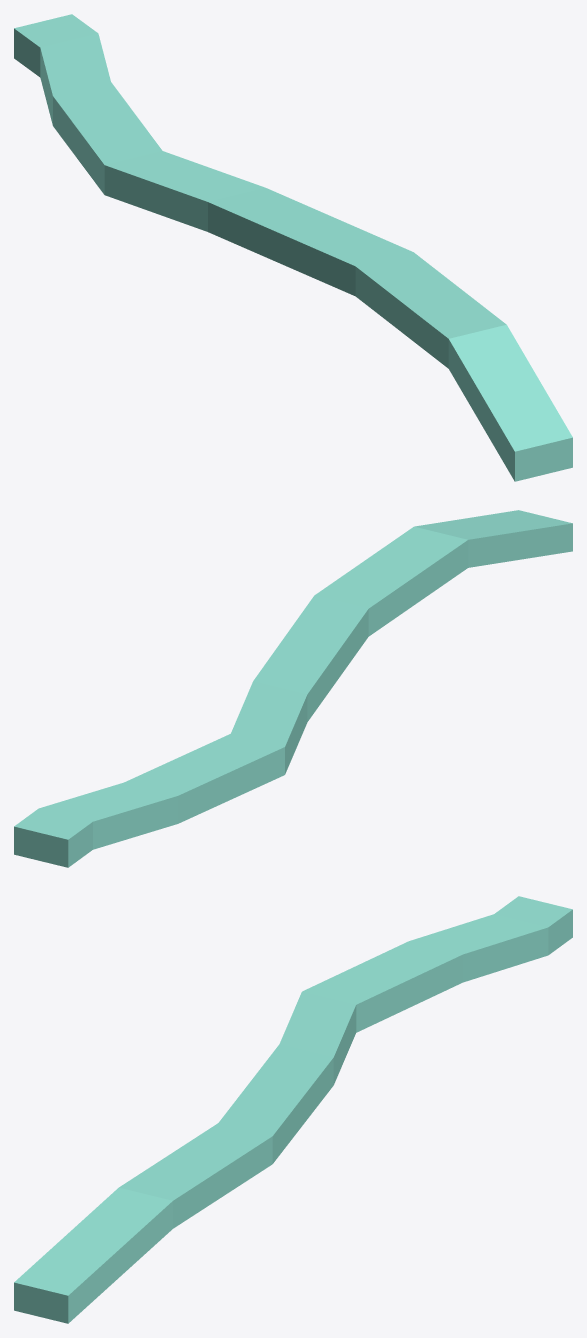
Rendered from caminhoice.fbx.
The picture shows the model from 3 angles, top to bottom: view 1: azimuth 30°, elevation 25°; view 2: azimuth 150°, elevation 25°; view 3: azimuth 330°, elevation 25°; orthographic projection. The views are drawn at different scales.
Parts seen in each view (by area): view 1: caminhoice; view 2: caminhoice; view 3: caminhoice.
Part boxes in pixels (x1,y1,x2,y2): caminhoice: [14, 14, 572, 481]; caminhoice: [14, 510, 572, 867]; caminhoice: [14, 896, 572, 1323].
Bounding box in the file's own units: 1551 × 769 × 10073.
